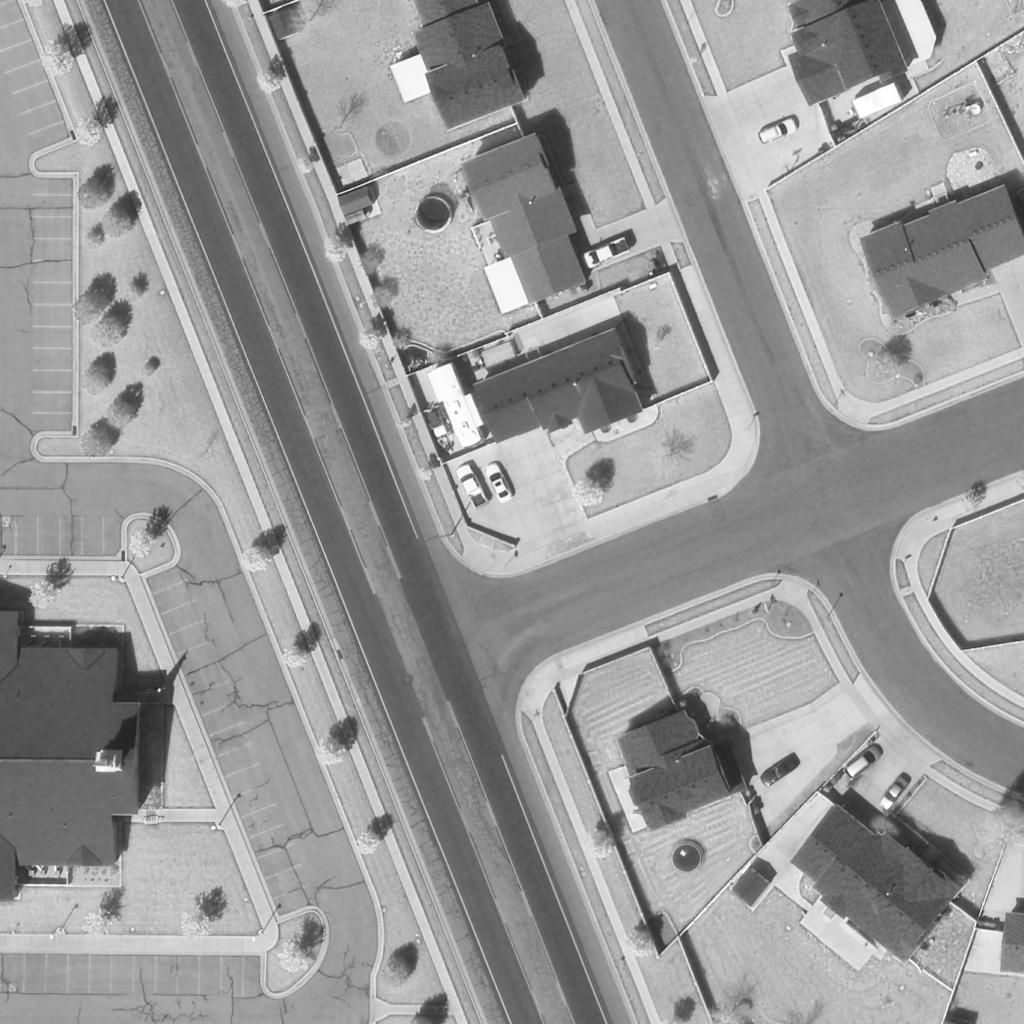vehicle: (429, 365, 485, 449), (577, 236, 635, 270), (756, 753, 804, 789), (852, 84, 902, 118), (842, 746, 886, 780), (455, 464, 487, 510), (484, 462, 516, 504), (759, 117, 799, 147), (880, 772, 910, 810)
